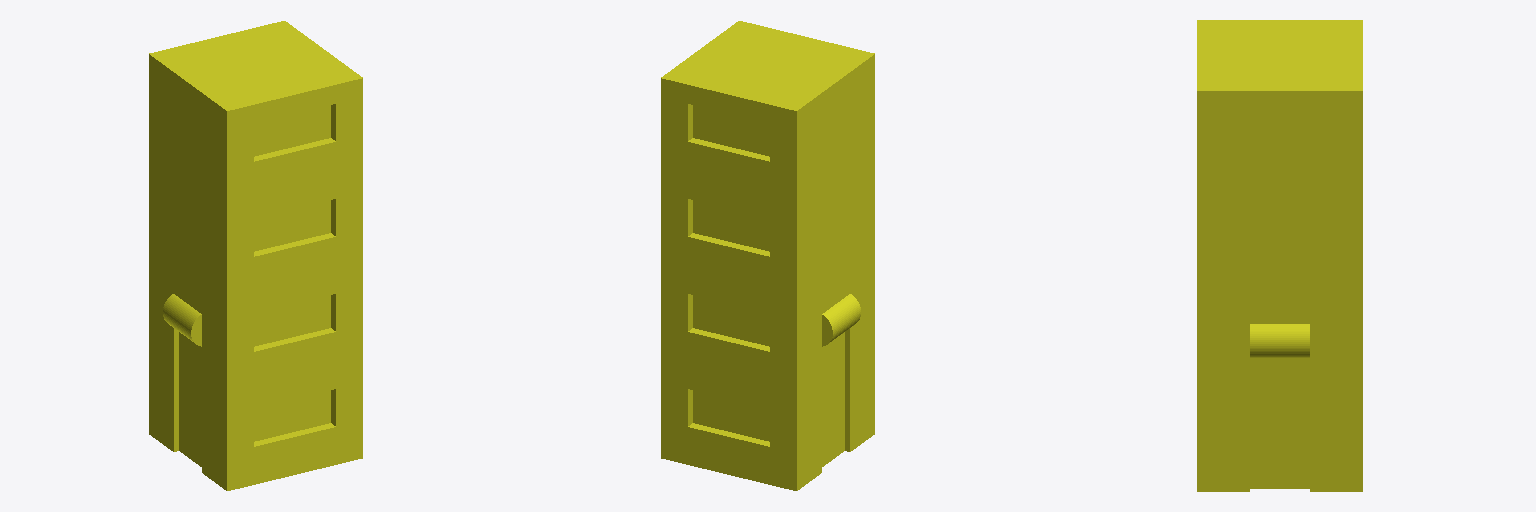
robot.urdf — cube.urdf:
<?xml version="1.0" ?>
<robot name="cube.urdf">
    <link name="legobrick">
        <contact>
            <lateral_friction value="1.0"/>
            <rolling_friction value="0.0"/>
            <contact_cfm value="0.0"/>
            <contact_erp value="1.0"/>
        </contact>
        <inertial>
            <origin rpy="0 0 0" xyz="0.0 0.0 0.0"/>
            <mass value="0.1"/>
            <inertia ixx="1" ixy="0" ixz="0" iyy="1" iyz="0" izz="1"/>
        </inertial>
        <visual>
            <origin rpy="1.570796 0 0" xyz="-0.001152925257731959 0.014222730670103094 -0.006989078608247398"/>
            <geometry>
                <mesh filename="Building_Snap_Top.obj" scale="0.001 0.001 0.001"/>
            </geometry>
            <material name="yellow">
                <color rgba="0.8510 0.8510 0.1804 1"/>
            </material>
        </visual>
        <collision>
            <origin rpy="1.570796 0 0" xyz="-0.001152925257731959 0.014222730670103094 -0.006989078608247398"/>
            <geometry>
                <mesh filename="Building_Snap_Top.obj" scale="0.001 0.001 0.001"/>
            </geometry>
        </collision>
    </link>
</robot>

--- What the picture shows (computed from the rendered views, not written in the file) ---
Views: 3 orthographic renders of the robot side by side, from view 1: azimuth 30°, elevation 25°; view 2: azimuth 150°, elevation 25°; view 3: azimuth 270°, elevation 25°.
Robot: cube.urdf — 1 links, 0 joints (none); root link legobrick; default pose: all joints at 0.
Links seen in each view (by area): view 1: legobrick; view 2: legobrick; view 3: legobrick.
Link boxes in pixels (box(x1,y1,x2,y2)): legobrick: box(149, 21, 362, 490); legobrick: box(661, 21, 874, 490); legobrick: box(1197, 20, 1362, 491).
Bounding box of the posed robot: 0.0174 × 0.015 × 0.04 m (x, y, z).
1 mesh visuals loaded from 1 distinct referenced files (1 OBJ).